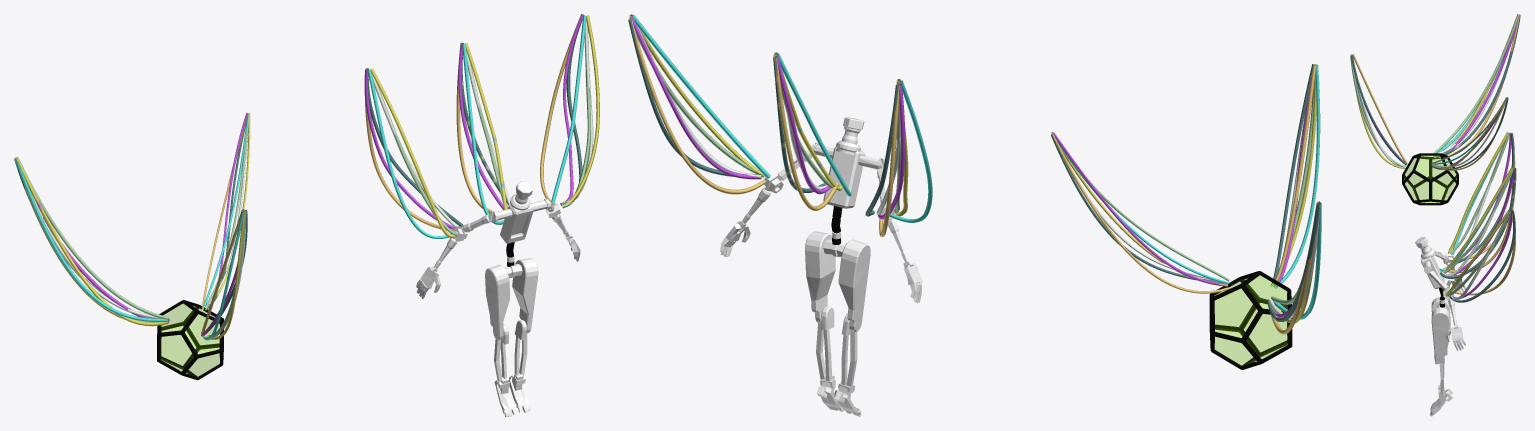
File: RobotEnvironment.fbx
The picture shows the model from 3 angles, left to right: view 1: azimuth 30°, elevation 25°; view 2: azimuth 150°, elevation 25°; view 3: azimuth 270°, elevation 25°; orthographic projection. The views are drawn at different scales.
Visible parts, largest first — view 1: GeoCables, Player_Skeleton_Mixamo, Solid.001; view 2: GeoCables, Player_Skeleton_Mixamo, Solid.001; view 3: GeoCables, Player_Skeleton_Mixamo, Solid.001.
Boxes of the visible parts, left/top/right/bottom form: GeoCables: left=14, top=14, right=599, bottom=340; Player_Skeleton_Mixamo: left=416, top=181, right=580, bottom=416; Solid.001: left=157, top=300, right=223, bottom=380; GeoCables: left=628, top=14, right=1321, bottom=334; Player_Skeleton_Mixamo: left=720, top=117, right=922, bottom=416; Solid.001: left=1209, top=271, right=1292, bottom=369; GeoCables: left=1350, top=14, right=1520, bottom=302; Player_Skeleton_Mixamo: left=1415, top=236, right=1466, bottom=416; Solid.001: left=1402, top=153, right=1458, bottom=205.
Size of the model in its own units: 8653 by 4834 by 3042.
